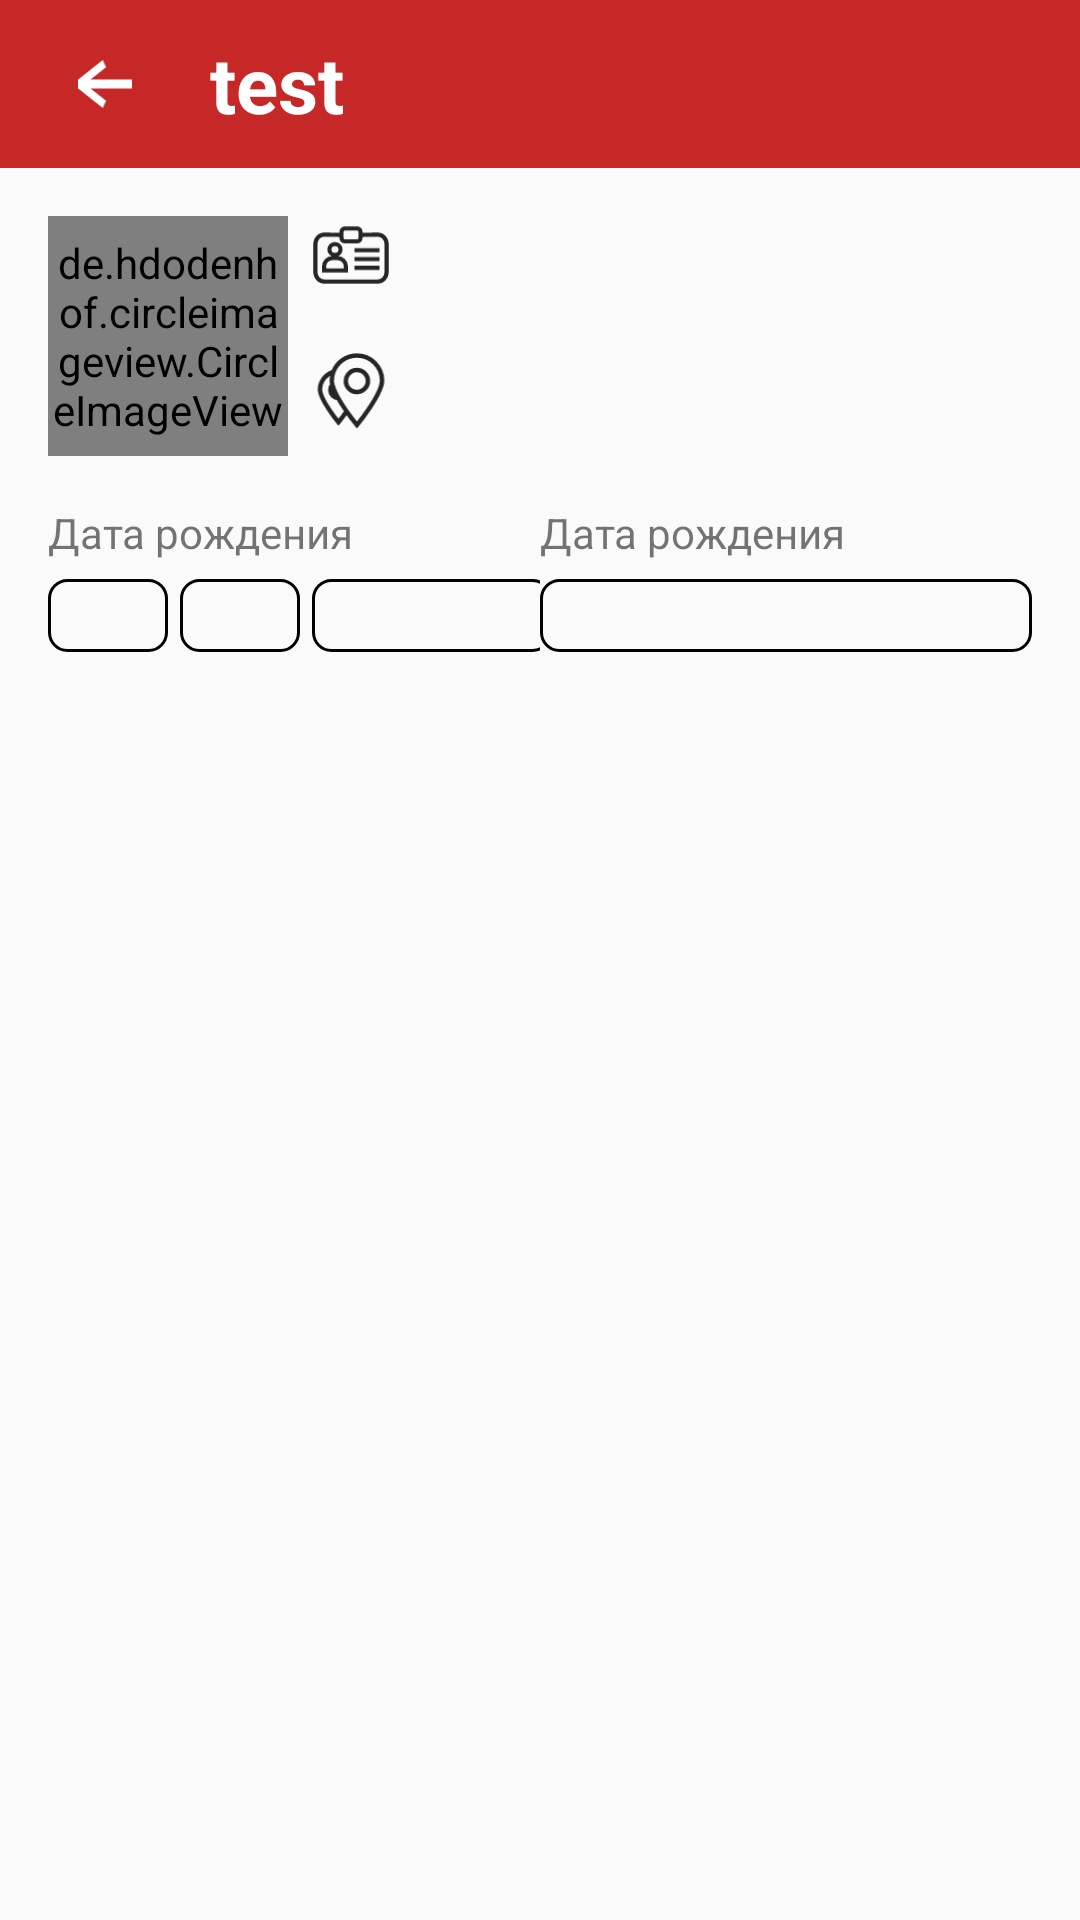

Screen size 1080*1920. Icon name, then its box in pixels as [left=x1, top=y1, right=x2, bottom=y2]:
back: [left=78, top=60, right=132, bottom=108]
city: [left=317, top=353, right=385, bottom=429]
profile: [left=313, top=226, right=389, bottom=284]
